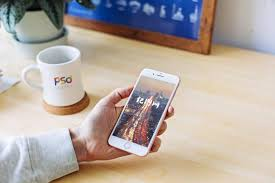mobil: (106, 65, 182, 158)
